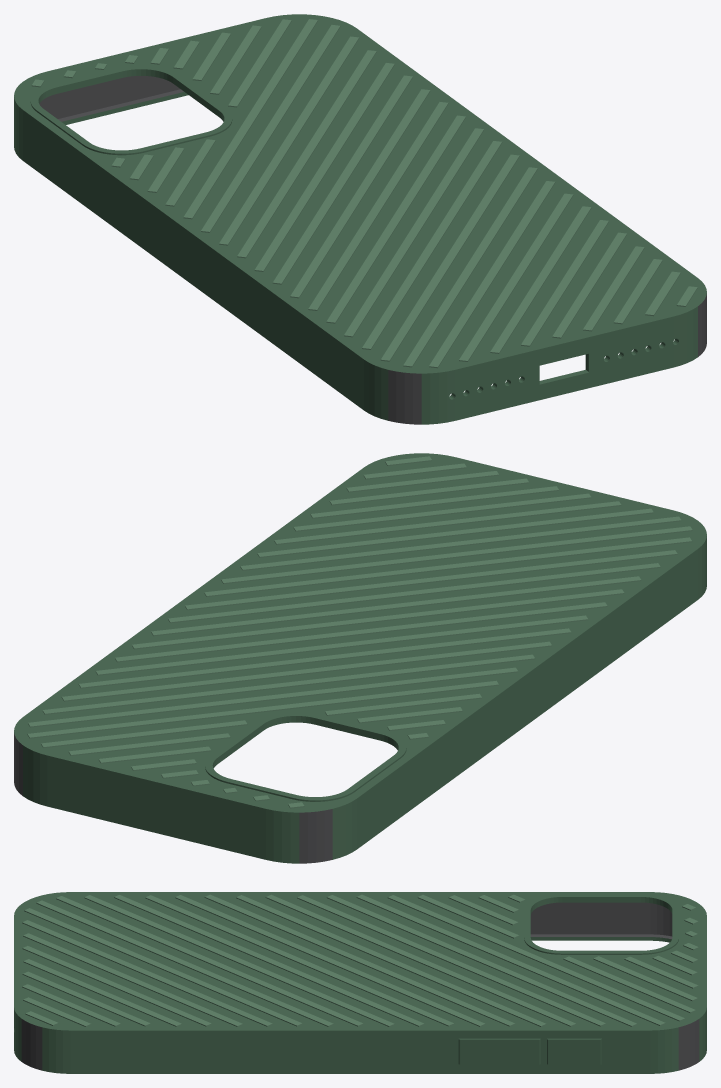
File: kilif-budget-dokuma-orman.glb
The picture shows the model from 3 angles, top to bottom: view 1: azimuth 30°, elevation 25°; view 2: azimuth 150°, elevation 25°; view 3: azimuth 270°, elevation 25°; orthographic projection. The views are drawn at different scales.
Parts seen in each view (by area): view 1: Kilif; view 2: Kilif; view 3: Kilif.
Boxes of the visible parts, x1,y1,x2,y2 form: Kilif: (14, 14, 706, 424); Kilif: (14, 453, 706, 863); Kilif: (14, 892, 706, 1073).
Size of the model in its own units: 0.0799 by 0.012 by 0.1679.
